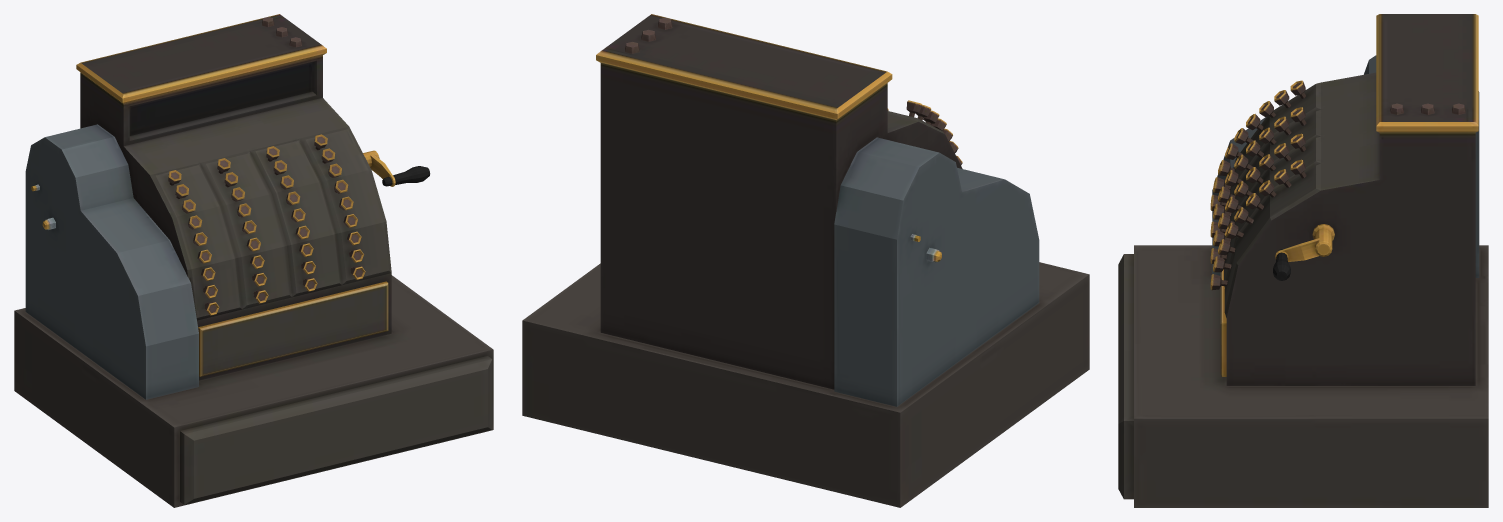
The model's file is crXBxFOkCIp.glb.
The picture shows the model from 3 angles, left to right: view 1: azimuth 30°, elevation 25°; view 2: azimuth 150°, elevation 25°; view 3: azimuth 270°, elevation 25°; orthographic projection. The views are drawn at different scales.
Parts seen in each view (by area): view 1: CashRegister_mesh; view 2: CashRegister_mesh; view 3: CashRegister_mesh.
Part boxes in pixels (x1,y1,x2,y2): CashRegister_mesh: (14,14,493,507); CashRegister_mesh: (522,14,1089,507); CashRegister_mesh: (1118,14,1488,507).
Size of the model in its own units: 1.05 by 1 by 0.9362.
1 material, 1 textured.
